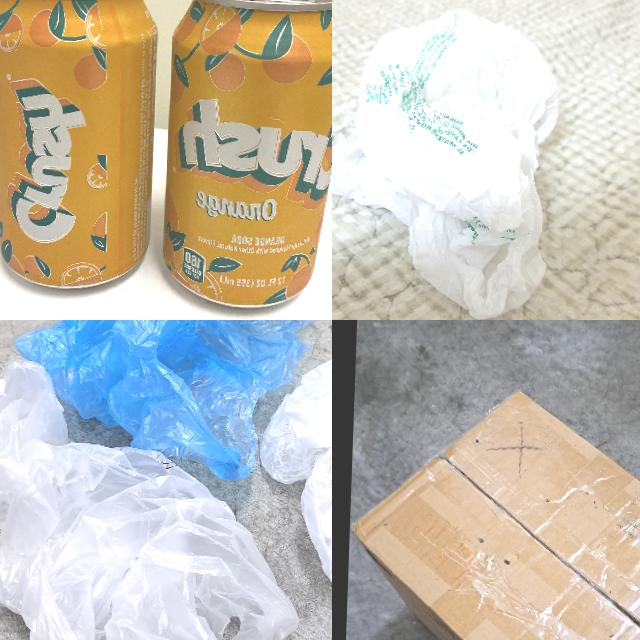lata: (156, 0, 332, 312), (0, 0, 160, 296)
papelão: (339, 386, 640, 640)
sacola plástica: (0, 356, 302, 640), (332, 3, 581, 320), (13, 320, 332, 478), (260, 320, 332, 635)
